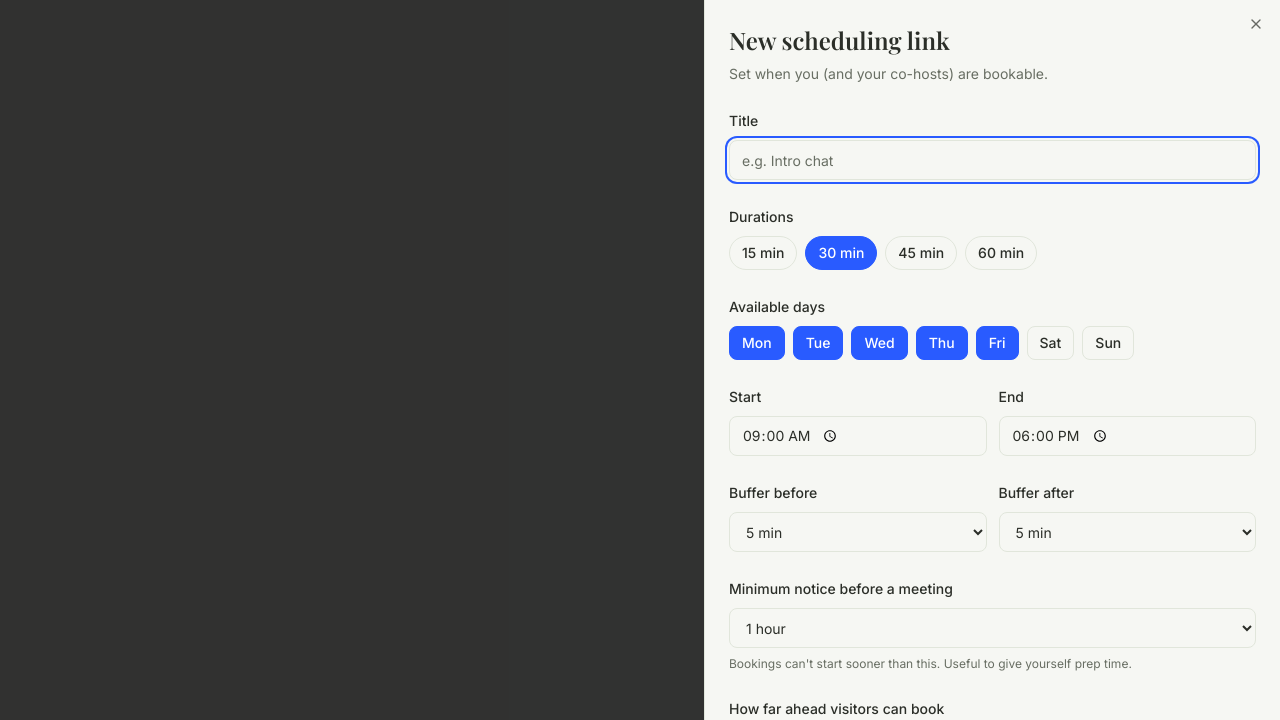
Scenario: the attempt key (contract §7.2) › no key is made before the first press, and a local validation refusal sends nothing
Click the button "30 min".
click(841, 253)  # box x1=805 y1=236 x2=877 y2=270
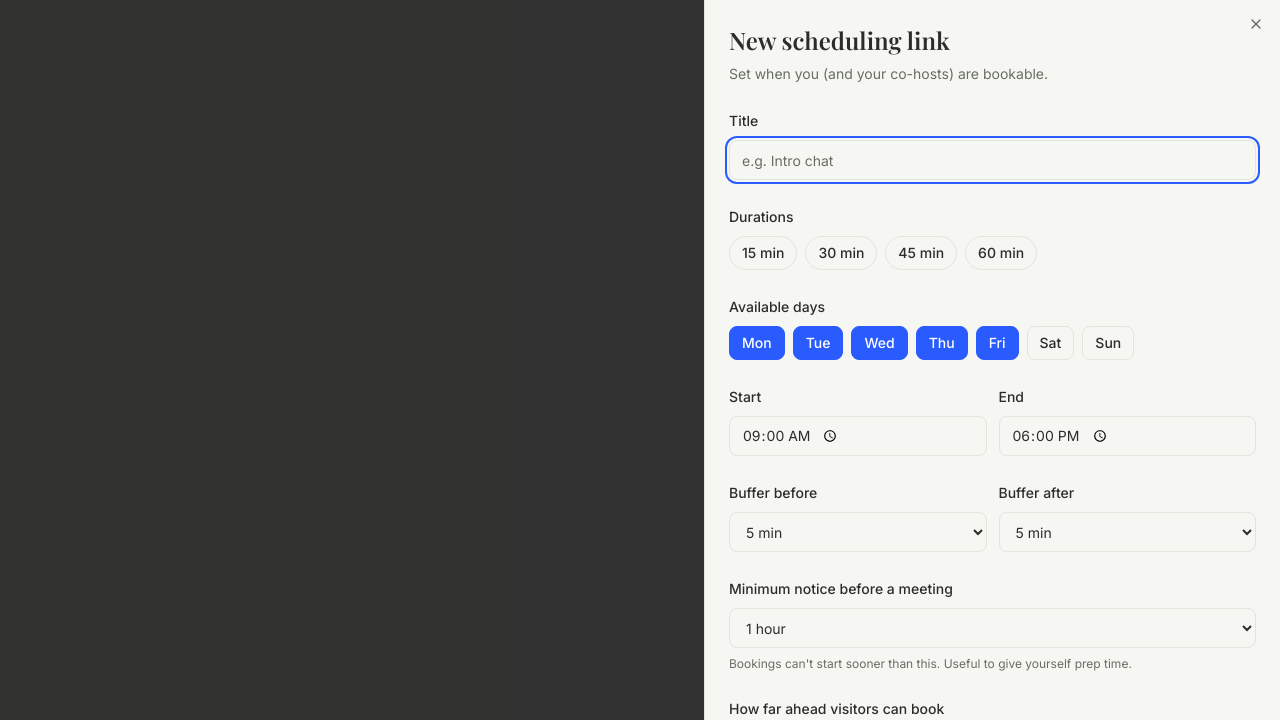
Type "Intro" into the field labelled "Title".
click(992, 160); type("Intro")  # box x1=729 y1=140 x2=1256 y2=180
(page scrolled)
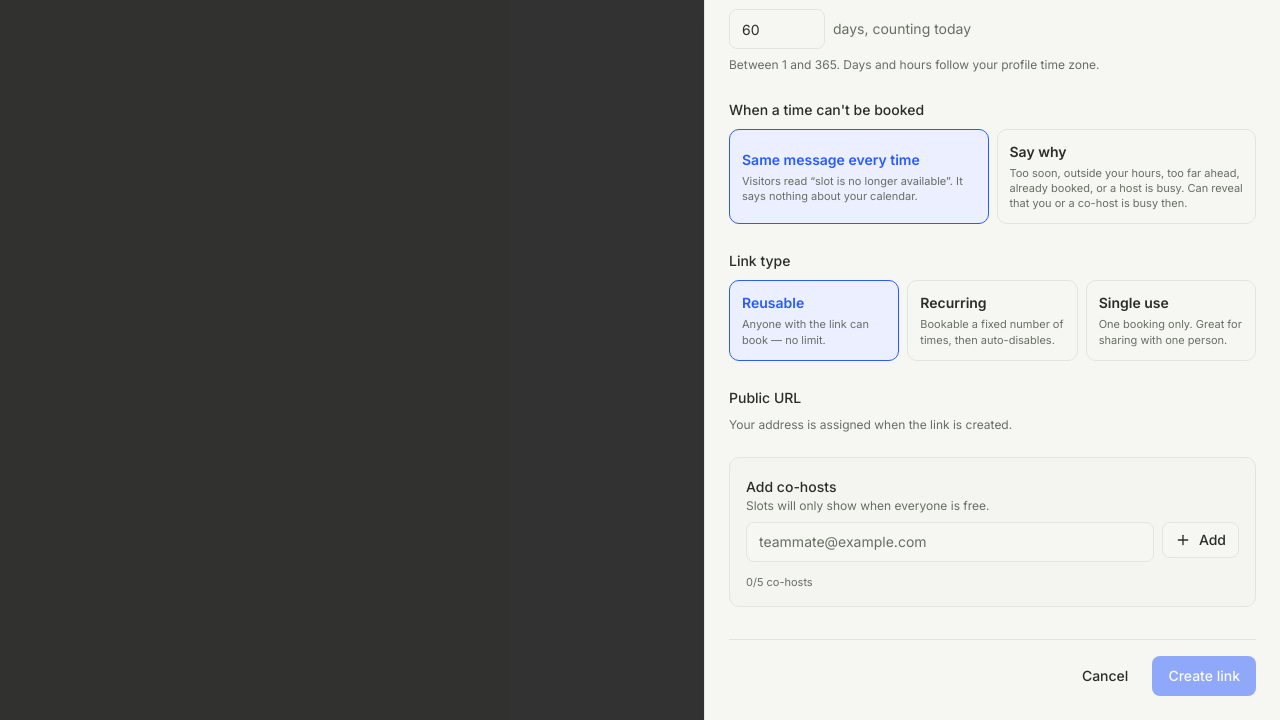
Expected: the button "Create link" is disabled, x1=1152 y1=656 x2=1256 y2=696
